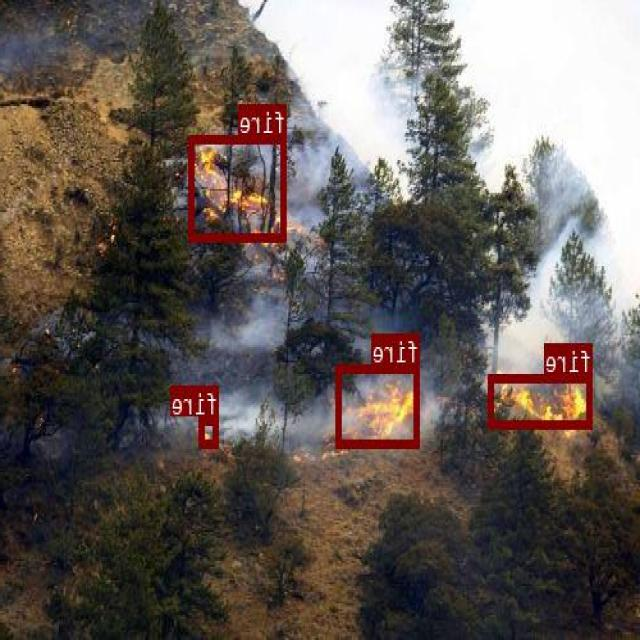fire: (190, 135, 288, 240), (337, 364, 421, 446), (490, 372, 593, 427), (201, 416, 219, 446)
